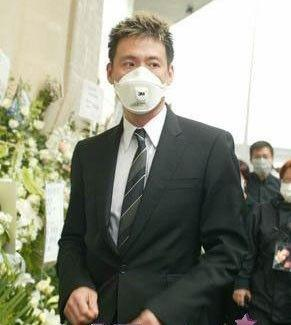OK: (113, 45, 175, 109), (252, 149, 274, 174), (282, 174, 291, 203)
